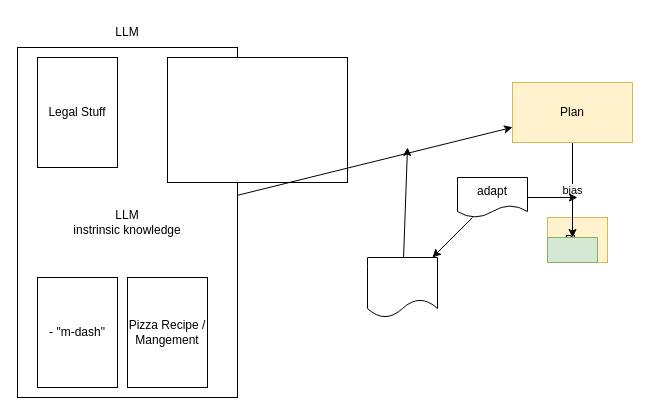
Image size: 650x415. Some labels were removed from this diagram. The shapes that lost their labels are listed below. From the top down, each one's centre as x and y in pixels, then its label:
[257,119]: Project Domain
[402,287]: "Plan" the task
